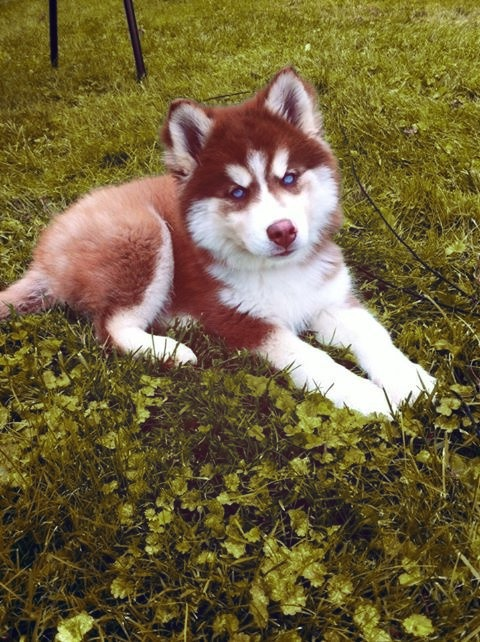husky: (65, 69, 433, 394)
